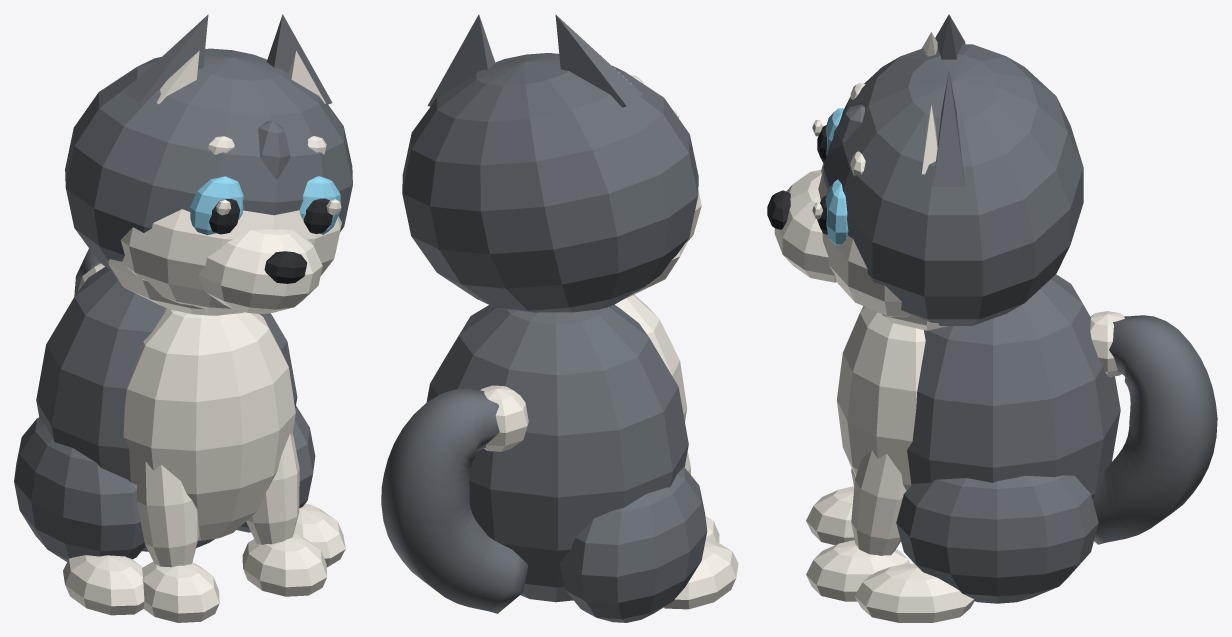
File: husky-puppy-pet.glb
The picture shows the model from 3 angles, left to right: view 1: azimuth 30°, elevation 25°; view 2: azimuth 150°, elevation 25°; view 3: azimuth 270°, elevation 25°; orthographic projection. The views are drawn at different scales.
Parts seen in each view (by area): view 1: HuskyPuppy; view 2: HuskyPuppy; view 3: HuskyPuppy.
Part boxes in pixels (<box>): HuskyPuppy: <box>14,14,352,622</box>; HuskyPuppy: <box>381,14,738,622</box>; HuskyPuppy: <box>767,14,1217,622</box>.
Size of the model in its own units: 1.54 by 2.79 by 2.05.
